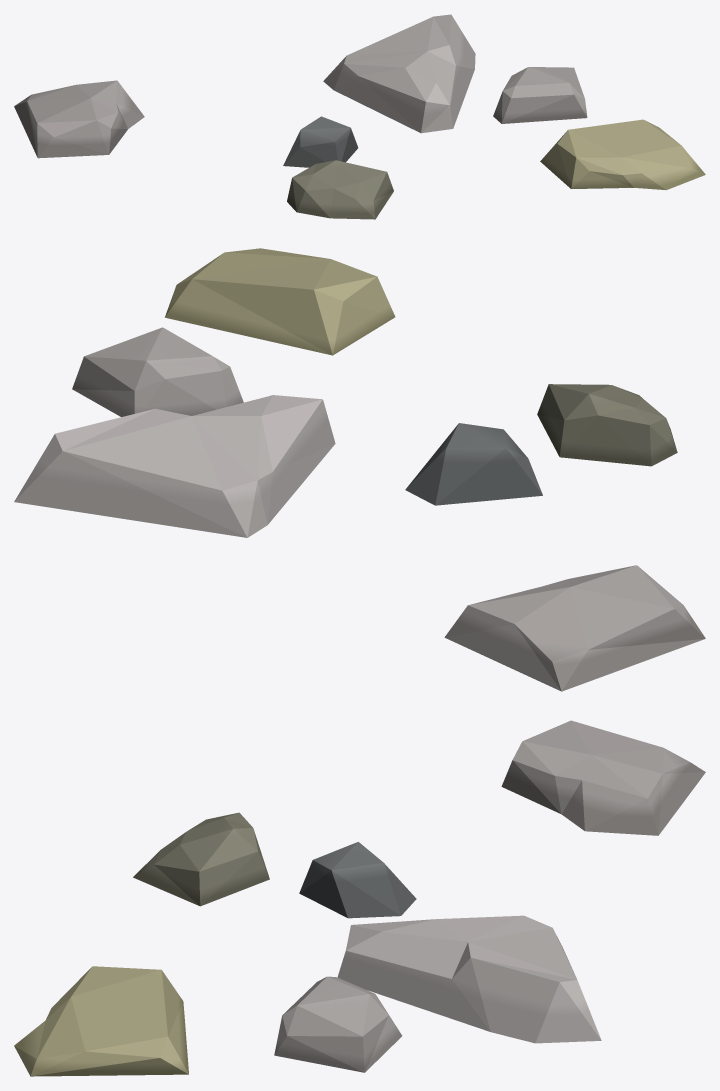
File: um_pebble003.FBX
3 renders of one model, top to bottom at view 1: azimuth 30°, elevation 25°; view 2: azimuth 150°, elevation 25°; view 3: azimuth 270°, elevation 25°, orthographic. The views are drawn at different scales.
Visible parts, largest first — view 1: um_pebble003; view 2: um_pebble003; view 3: um_pebble003.
Part boxes in pixels (x1,y1,x2,y2): um_pebble003: (14,14,705,219); um_pebble003: (14,248,705,691); um_pebble003: (14,720,705,1076).
Bounding box in the file's own units: 1.58 × 0.1177 × 1.4.
